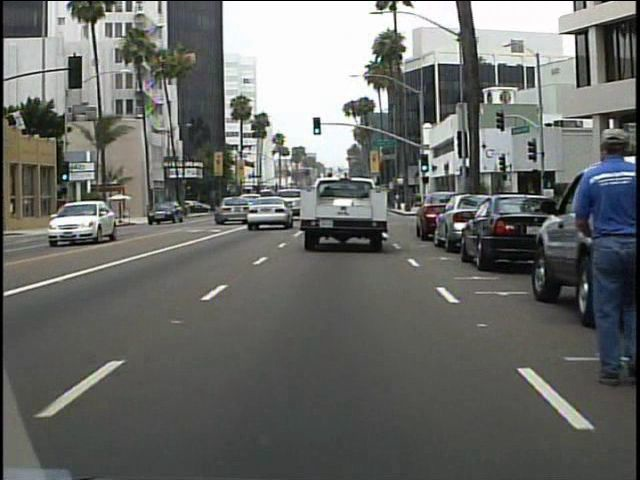person: (563, 122, 637, 389)
